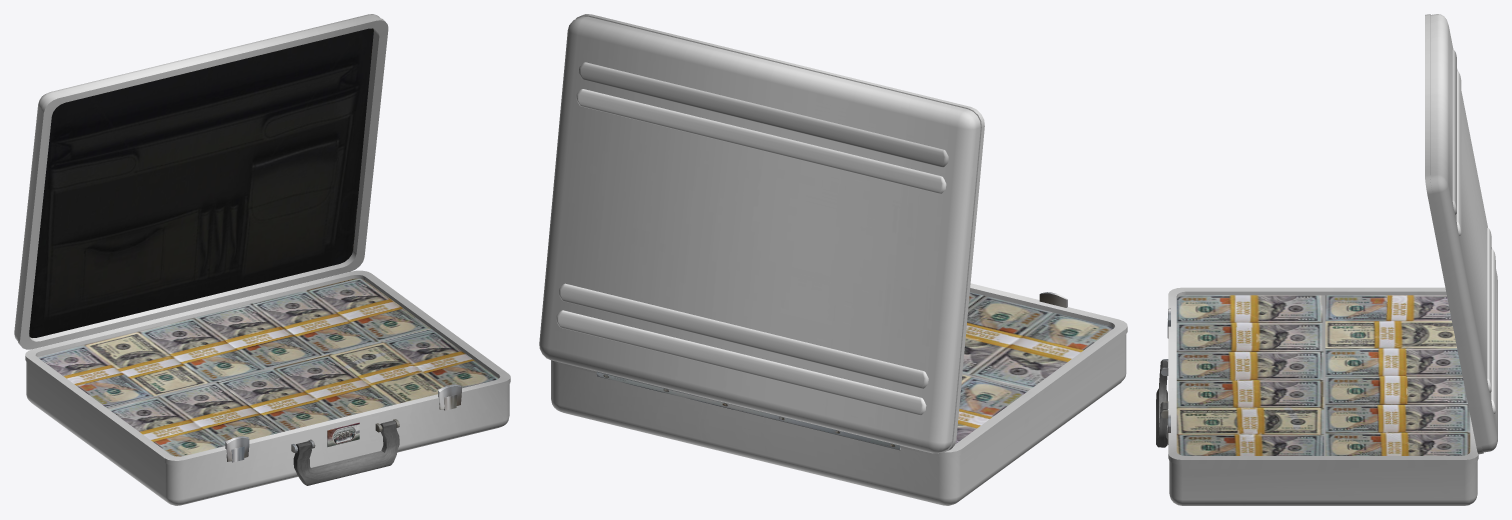
Rendered from briefcase.glb.
3 renders of one model, left to right at view 1: azimuth 30°, elevation 25°; view 2: azimuth 150°, elevation 25°; view 3: azimuth 270°, elevation 25°, orthographic. The views are drawn at different scales.
Visible parts, largest first — view 1: Top_Cash, Bottom_Cash; view 2: Top_Cash, Bottom_Cash; view 3: Bottom_Cash, Top_Cash.
Boxes of the visible parts, x1=… form: Top_Cash: x1=14, y1=14, x2=388, y2=349; Bottom_Cash: x1=25, y1=270, x2=510, y2=505; Top_Cash: x1=539, y1=14, x2=984, y2=453; Bottom_Cash: x1=551, y1=283, x2=1127, y2=505; Bottom_Cash: x1=1156, y1=287, x2=1478, y2=505; Top_Cash: x1=1425, y1=14, x2=1497, y2=454.
Size of the model in its own units: 0.6368 by 0.5689 by 0.5318.
2 materials, 2 textured.
